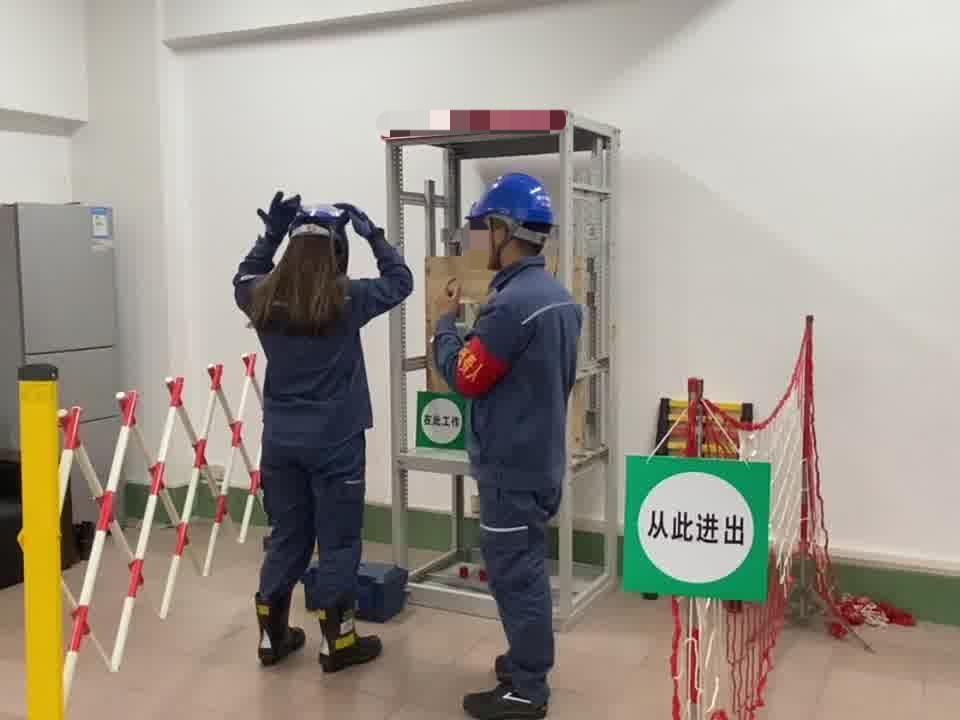halt: (468, 173, 559, 271)
inear: (485, 218, 519, 262)
